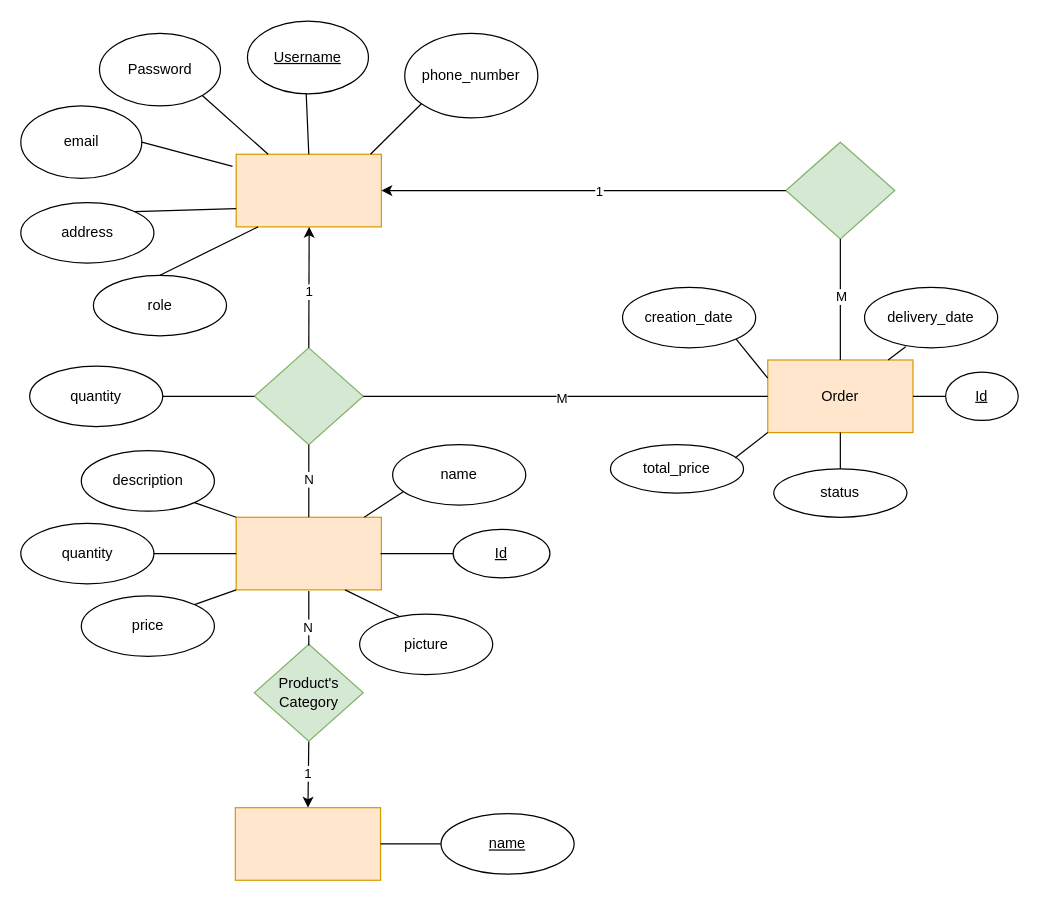
The diagram is 1041 pixels wide and 901 high, and some of its shapes have lost their labels. The shapes that lost their labels are listed below. From the top down, each one's box as (x1, y1, x2, y2) in pixels, then its label:
(235, 153, 381, 227): User
(785, 141, 895, 239): Orders
(253, 347, 363, 445): Cart
(235, 516, 381, 590): Product
(234, 806, 381, 880): Category
